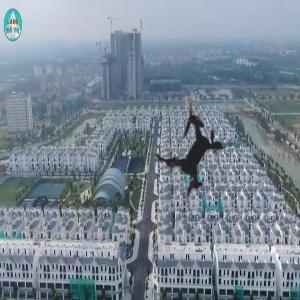drone: (115, 73, 271, 229)
